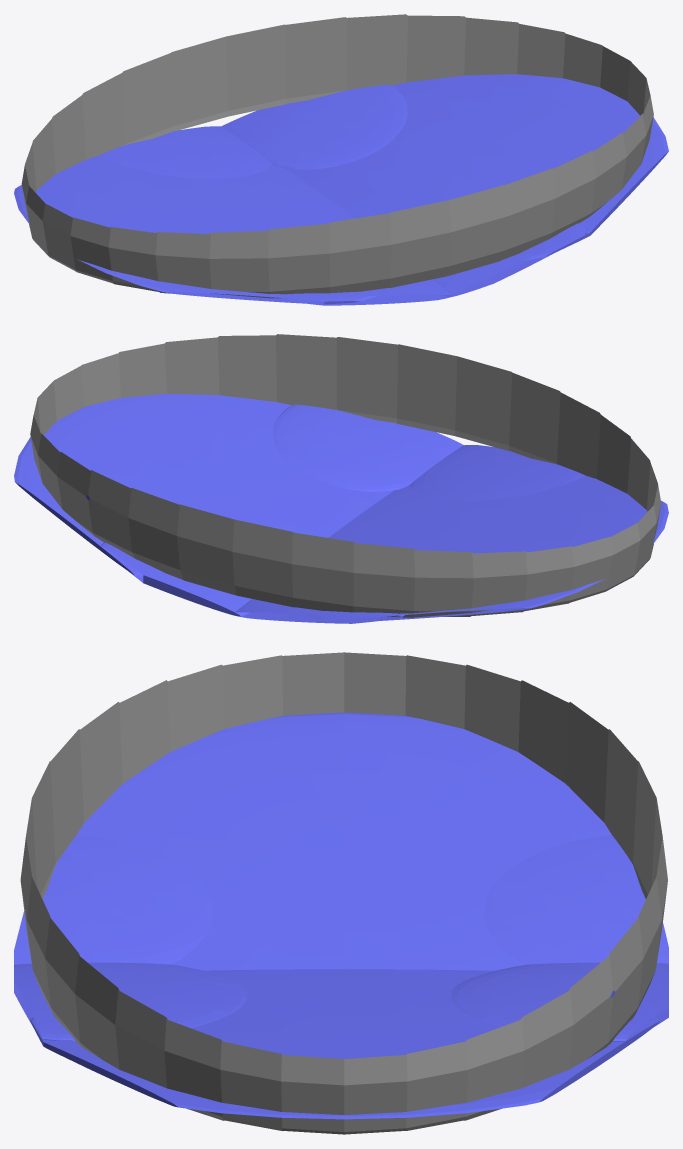
Rendered from arena_joined.fbx.
3 renders of one model, top to bottom at view 1: azimuth 30°, elevation 25°; view 2: azimuth 150°, elevation 25°; view 3: azimuth 270°, elevation 25°, orthographic. The views are drawn at different scales.
Visible parts, largest first — view 1: pool; view 2: pool; view 3: pool.
Boxes of the visible parts, x1,y1,x2,y2 form: pool: (14, 14, 668, 305); pool: (14, 334, 668, 623); pool: (14, 652, 668, 1134).
Size of the model in its own units: 9170 by 1472 by 6166.
